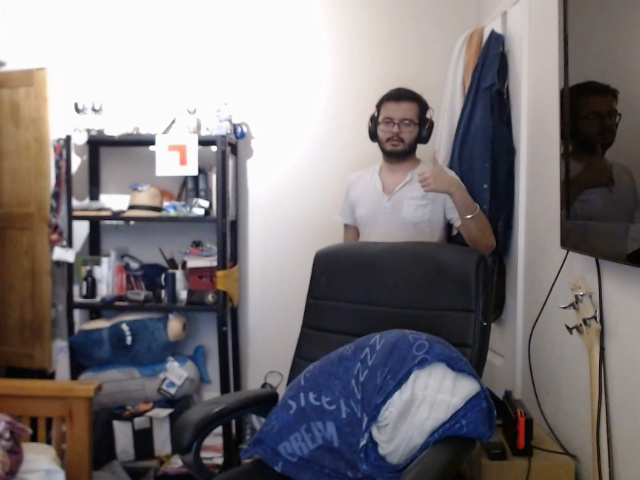Thumbs up: (416, 149, 454, 200)
